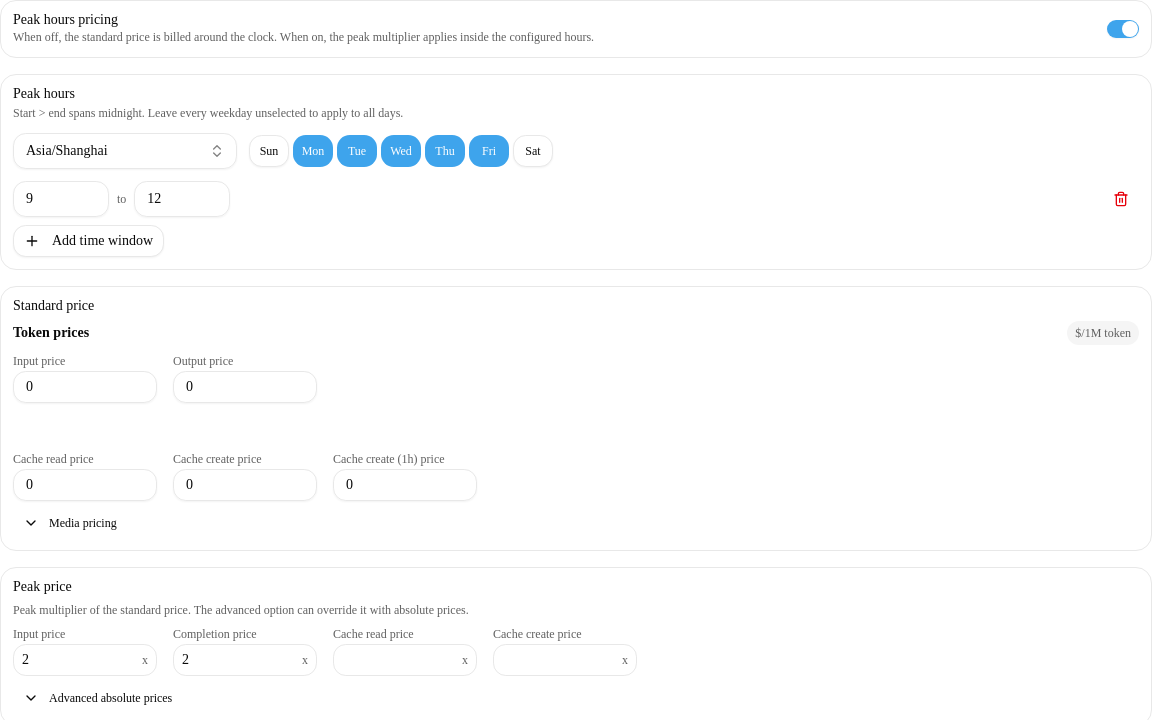
time based pricing editor › adds and removes time windows
Expected: the number of buttons named "Remove time window" is 1, [1103,181,1139,217]
What coordinates should you click on to do the following:
click the button "Add time window"
I would click on:
 (89, 241)
Its box is [13,225,164,257].
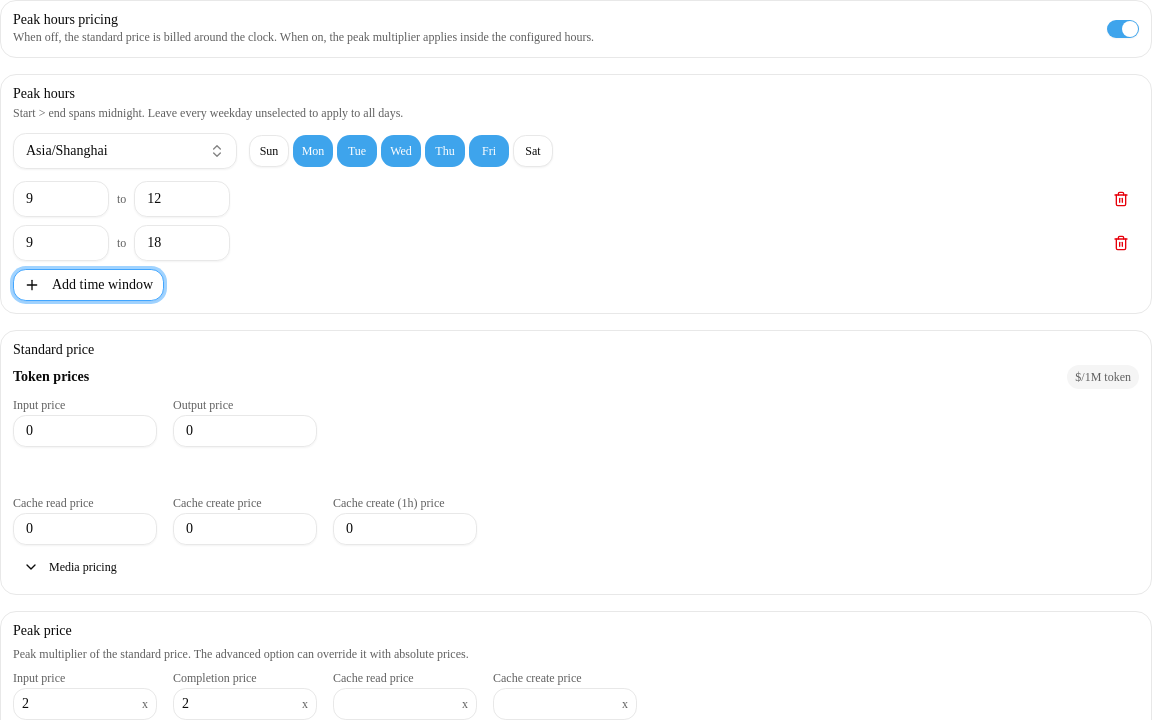
Now the number of buttons named "Remove time window" is 2
What coordinates should you click on to do the following:
click the 2nd button named "Remove time window"
I would click on:
 (1121, 243)
Its box is [1103,225,1139,261].
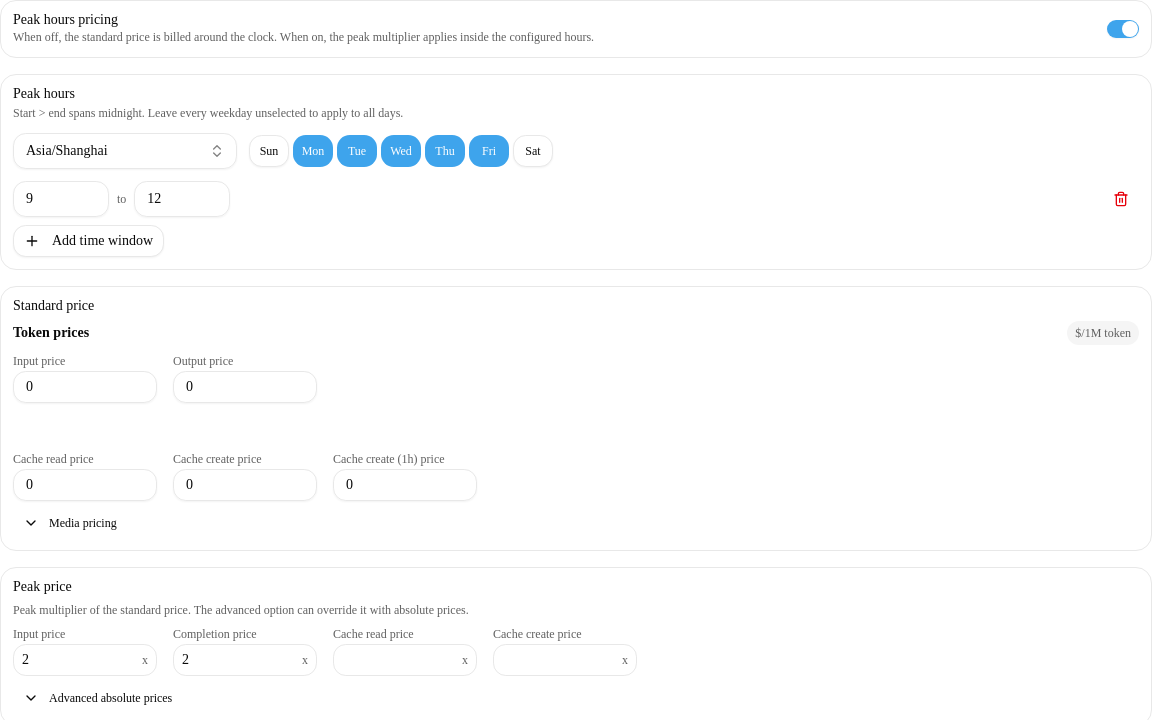
Now the number of buttons named "Remove time window" is 1, box [1103,181,1139,217]
